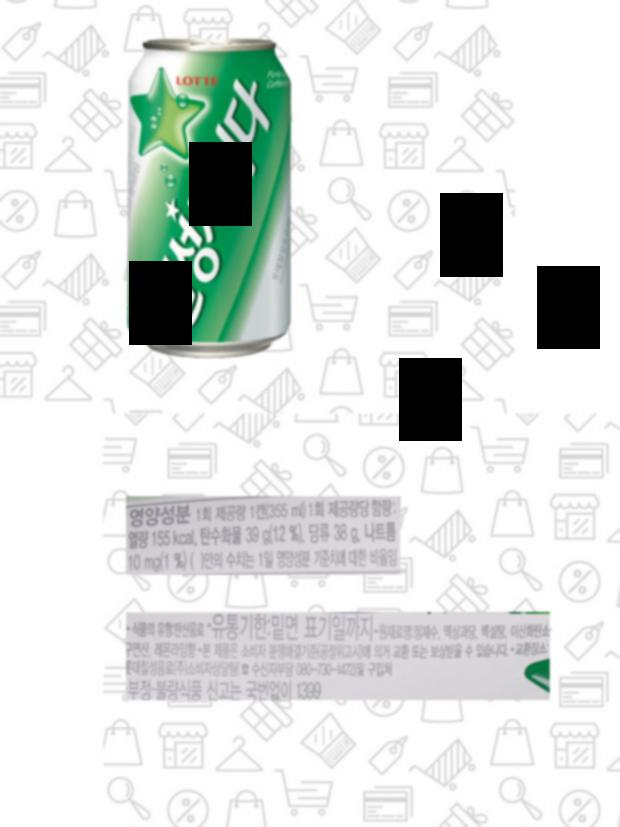chilsungcider: (119, 38, 316, 374)
